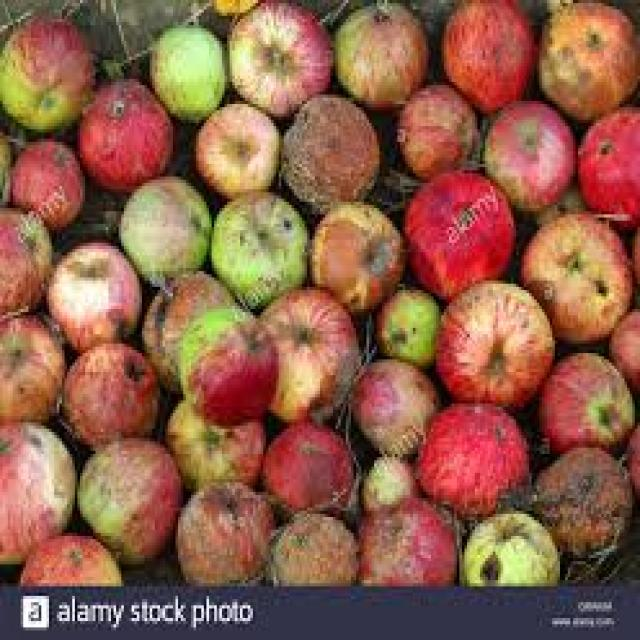organic waste: (516, 208, 630, 344), (400, 167, 514, 296), (434, 277, 550, 403), (258, 281, 361, 419), (139, 265, 240, 394), (413, 397, 524, 514), (75, 432, 178, 558), (532, 0, 638, 117), (207, 186, 307, 303), (227, 0, 330, 113), (279, 92, 379, 208), (178, 306, 274, 426), (529, 441, 630, 552), (0, 416, 77, 561), (307, 199, 405, 312), (160, 391, 263, 498), (41, 236, 137, 350), (477, 95, 573, 208), (173, 473, 271, 583), (62, 334, 155, 448), (0, 13, 93, 126), (116, 167, 207, 281), (438, 0, 529, 110), (77, 79, 168, 189), (330, 0, 426, 104), (537, 350, 635, 451), (258, 419, 356, 517), (354, 495, 454, 583), (348, 356, 434, 448), (573, 101, 637, 224), (395, 79, 475, 176), (194, 101, 276, 192), (462, 501, 555, 580), (8, 136, 82, 227), (0, 312, 59, 419), (269, 508, 356, 580), (15, 527, 119, 583), (155, 28, 219, 117), (372, 284, 436, 366), (0, 202, 49, 306), (356, 451, 416, 507), (606, 303, 638, 400), (614, 422, 638, 492), (627, 214, 638, 284), (211, 0, 255, 9)
